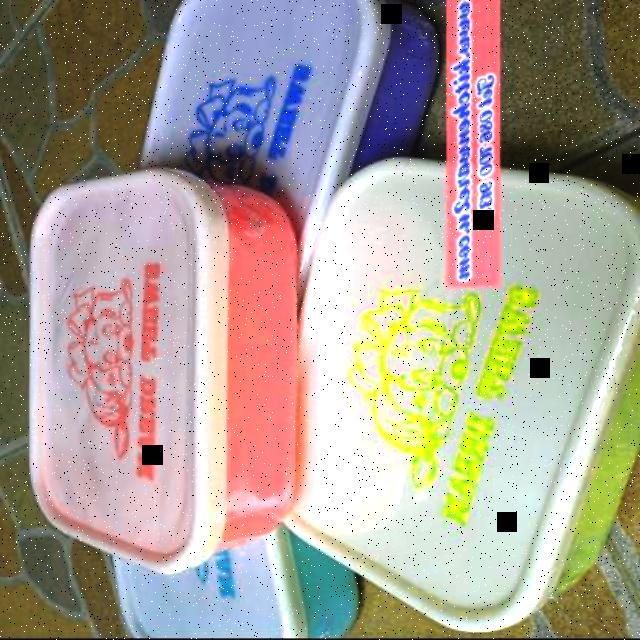plastic_box: (31, 170, 301, 572)
